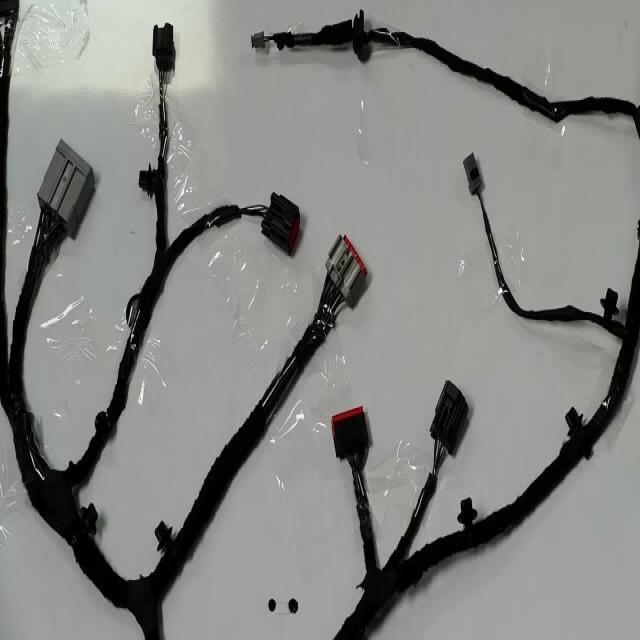cable: (4, 23, 299, 512), (334, 246, 639, 639), (77, 236, 361, 639), (0, 279, 158, 639), (481, 206, 639, 507), (251, 10, 639, 130), (0, 141, 93, 479), (338, 381, 455, 636), (476, 190, 569, 320), (28, 141, 79, 290), (433, 499, 505, 556), (63, 503, 96, 556), (113, 347, 135, 405)
clip: (457, 498, 477, 529), (139, 167, 158, 197), (601, 289, 618, 319), (156, 521, 172, 552), (566, 407, 582, 438)
connector: (38, 140, 94, 235), (326, 235, 367, 304), (262, 192, 299, 255), (152, 23, 175, 83)
